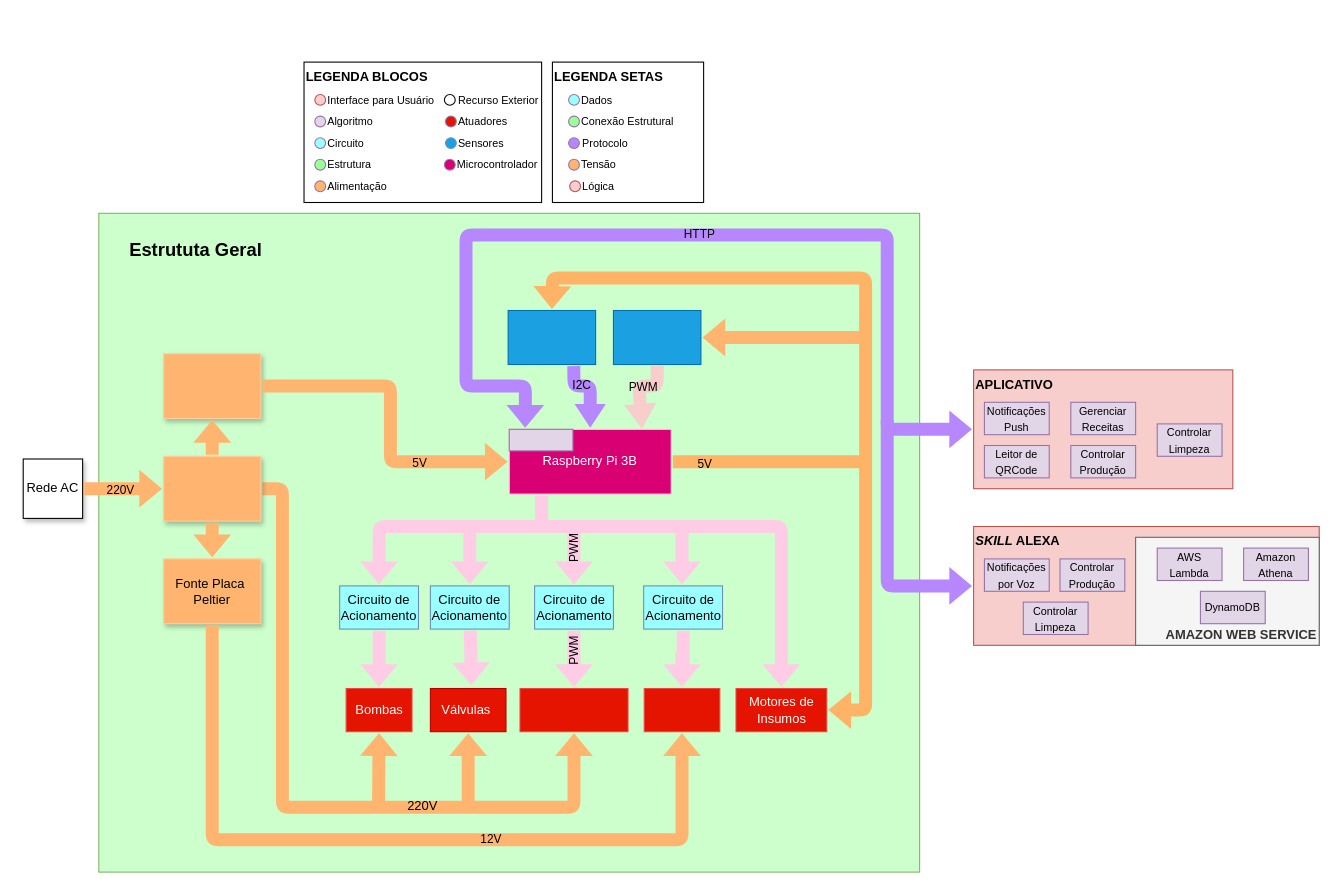
Image size: 1338x891. Some labels were removed from this diagram. The centre of each missing label's shape, as x and y in pixels:
API Rest: pixel 540 439
Fonte Rasp: pixel 212 387
No Break: pixel 212 490
Placas Peltier: pixel 681 709
Resist ê ncias: pixel 573 709
Sensor de Fluxo: pixel 656 336
Sensor de Temperatura: pixel 551 336
